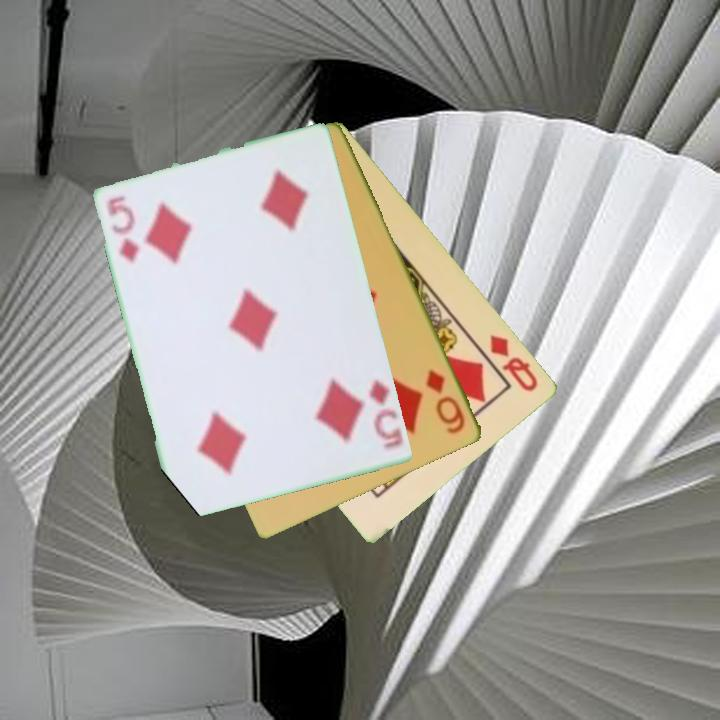5d: (366, 376, 407, 452), (103, 193, 143, 268)
6d: (422, 366, 469, 437)
Qd: (486, 331, 542, 395)
